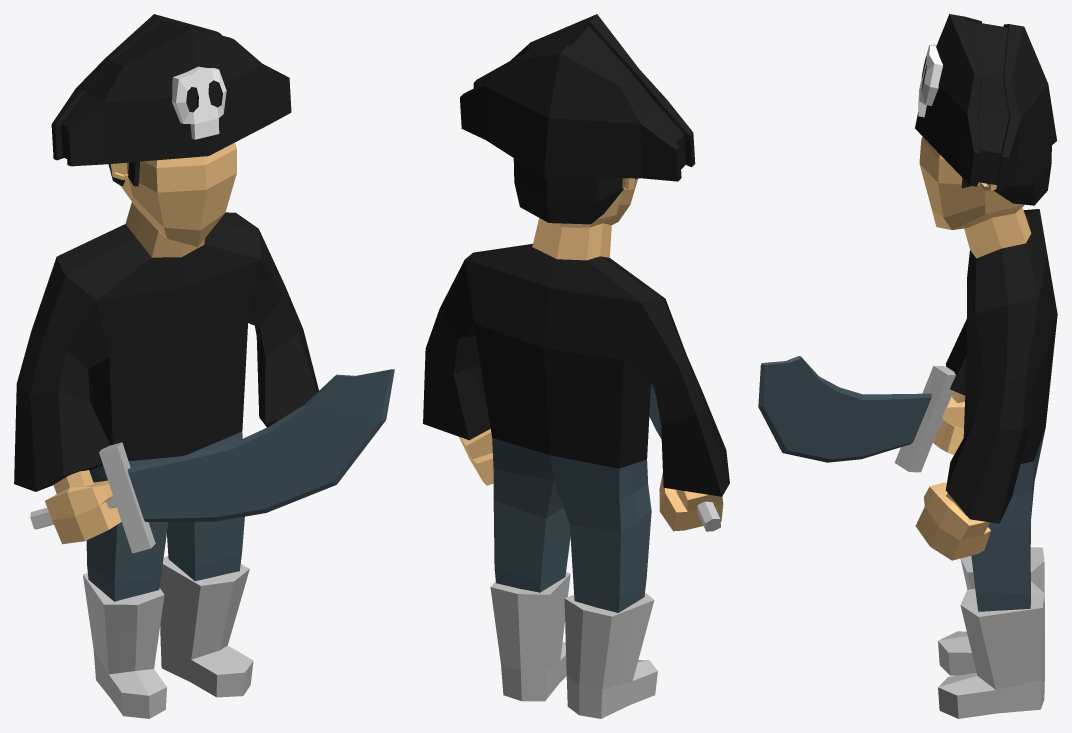
Rendered from Pirate_01_resized.obj.
3 renders of one model, left to right at view 1: azimuth 30°, elevation 25°; view 2: azimuth 150°, elevation 25°; view 3: azimuth 270°, elevation 25°, orthographic.
Visible parts, largest first — view 1: Pirate; view 2: Pirate; view 3: Pirate.
Part boxes in pixels (x1,y1,x2,y2): Pirate: [14, 14, 394, 718]; Pirate: [423, 14, 729, 718]; Pirate: [758, 14, 1057, 718].
Bounding box in the file's own units: 0.3286 × 0.6956 × 0.28.
